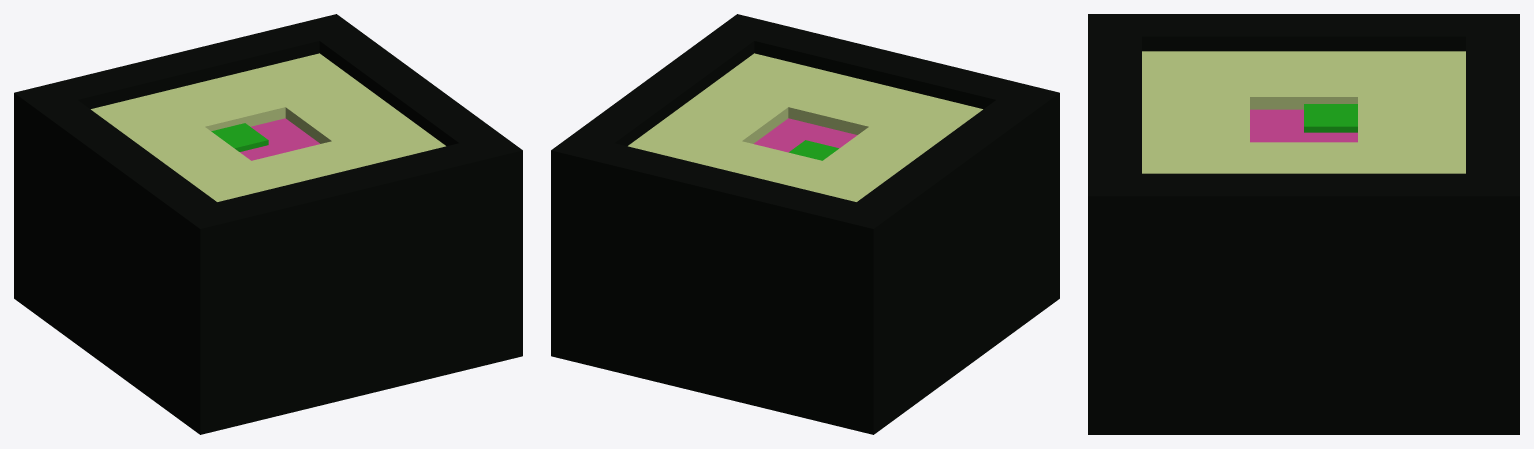
File: sushi.obj
3 renders of one model, left to right at view 1: azimuth 30°, elevation 25°; view 2: azimuth 150°, elevation 25°; view 3: azimuth 270°, elevation 25°, orthographic. The views are drawn at different scales.
Parts seen in each view (by area): view 1: sushi; view 2: sushi; view 3: sushi.
Boxes of the visible parts, bbox=[...] form: sushi: bbox=[14, 14, 522, 434]; sushi: bbox=[551, 14, 1059, 434]; sushi: bbox=[1088, 14, 1519, 434].
Bounding box in the file's own units: 3.18 × 1.94 × 3.18.
